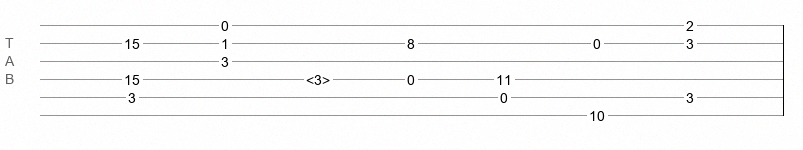0: (221, 18, 229, 28), (407, 72, 415, 82), (500, 90, 508, 100), (593, 36, 601, 46)
1: (221, 36, 229, 46)
10: (589, 108, 605, 118)
11: (496, 72, 512, 82)
15: (124, 36, 140, 46), (124, 72, 140, 82)
2: (686, 18, 694, 28)
3: (128, 90, 136, 100), (221, 54, 229, 64), (686, 90, 694, 100), (686, 36, 694, 46)
8: (407, 36, 415, 46)
harmonic: (306, 72, 330, 82)
